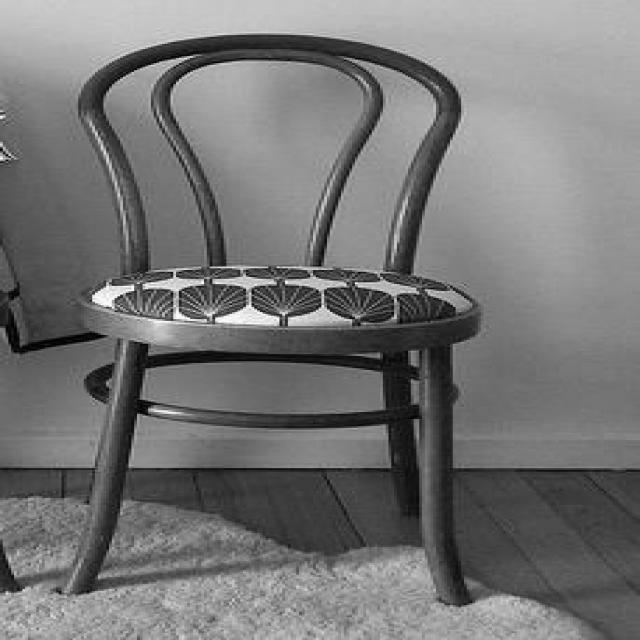chair: (60, 30, 482, 607)
